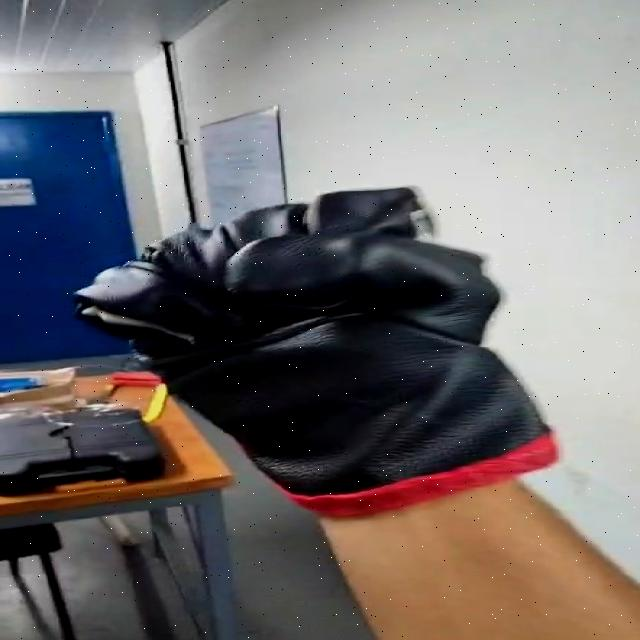Gloves: (71, 189, 559, 515)
